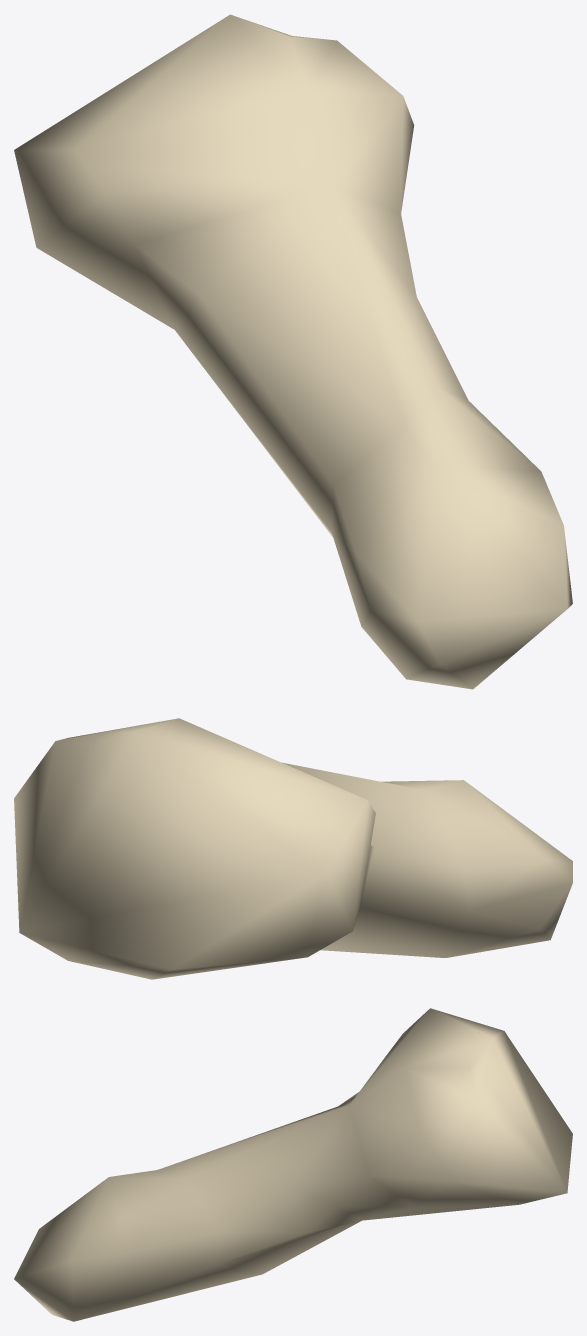
The model's file is esqueleto-distal-phalanx-of-fourth-finger-of-hand-r.glb.
3 views of the same model, one above another, from view 1: azimuth 30°, elevation 25°; view 2: azimuth 150°, elevation 25°; view 3: azimuth 270°, elevation 25° (orthographic). The views are drawn at different scales.
Visible parts, largest first — view 1: Distal phalanx of fourth finger of hand.r; view 2: Distal phalanx of fourth finger of hand.r; view 3: Distal phalanx of fourth finger of hand.r.
Boxes of the visible parts, box(x1,y1,x2,y2) form: Distal phalanx of fourth finger of hand.r: box(14, 14, 572, 689); Distal phalanx of fourth finger of hand.r: box(14, 718, 572, 979); Distal phalanx of fourth finger of hand.r: box(14, 1008, 572, 1321).
Size of the model in its own units: 0.00861 by 0.0096 by 0.0162.
